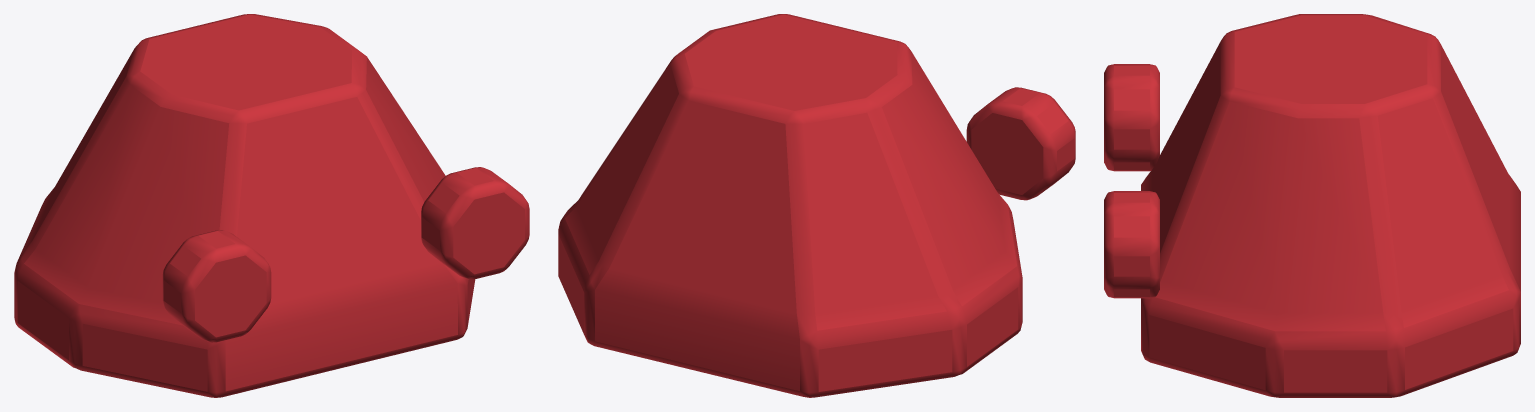
File: AnimalHeadBack_Set08_Goliath.fbx
3 renders of one model, left to right at view 1: azimuth 30°, elevation 25°; view 2: azimuth 150°, elevation 25°; view 3: azimuth 270°, elevation 25°, orthographic.
Visible parts, largest first — view 1: AnimalHeadBack_Set08_Goliath; view 2: AnimalHeadBack_Set08_Goliath; view 3: AnimalHeadBack_Set08_Goliath.
Boxes of the visible parts, x1,y1,x2,y2 form: AnimalHeadBack_Set08_Goliath: (14, 14, 529, 397); AnimalHeadBack_Set08_Goliath: (558, 14, 1075, 397); AnimalHeadBack_Set08_Goliath: (1104, 14, 1520, 397).
Bounding box in the file's own units: 0.42 × 0.24 × 0.373.
